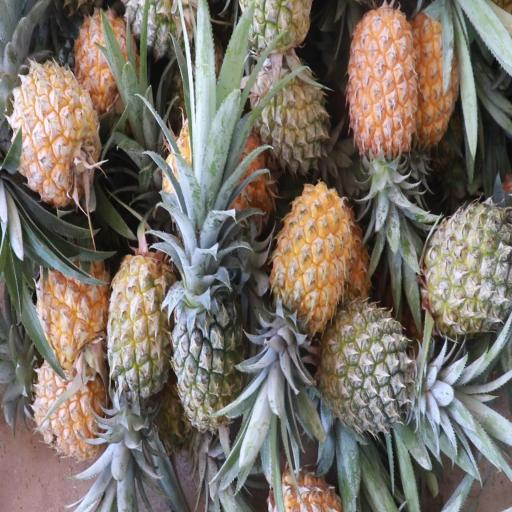------------------------------: (106, 248, 170, 420)
Pineapple - v8 v1: (348, 0, 419, 234), (279, 177, 350, 405), (5, 70, 104, 204), (30, 234, 111, 366), (74, 8, 143, 114), (416, 2, 465, 150), (30, 366, 107, 455)
